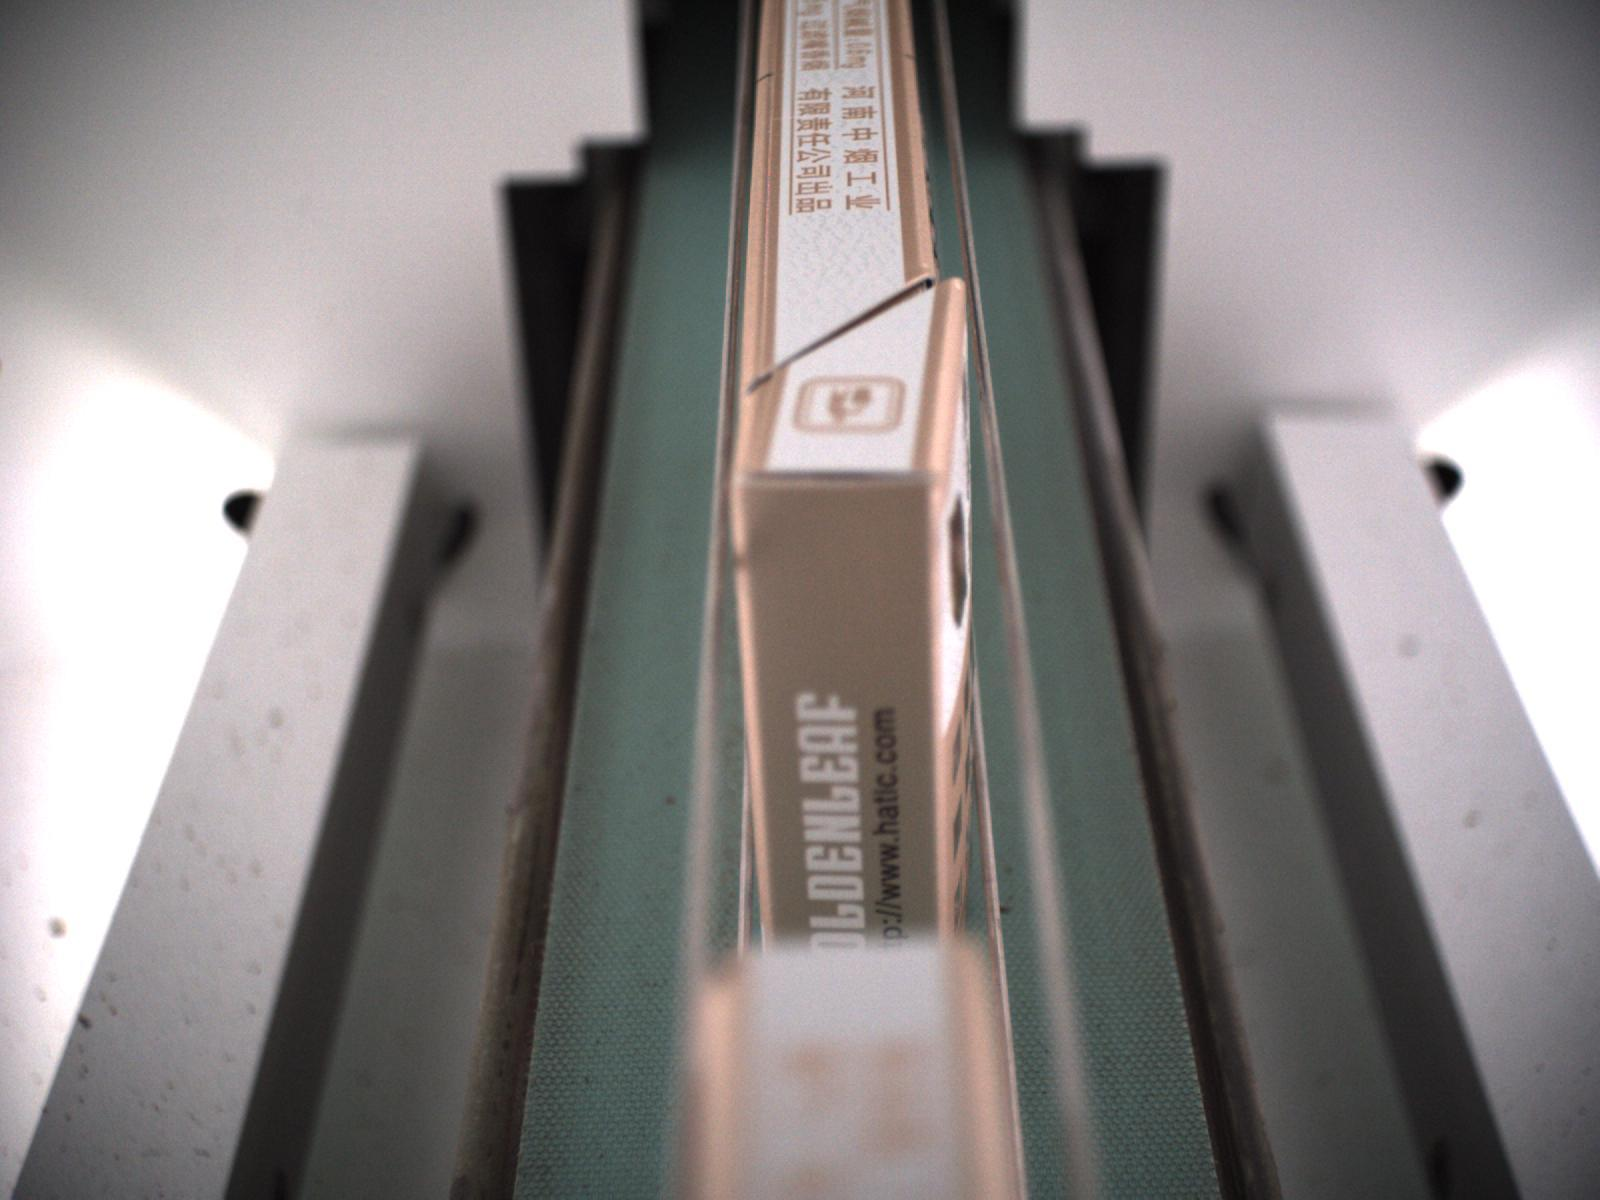bottomUpwarp_upper_1: (732, 262, 971, 418)
